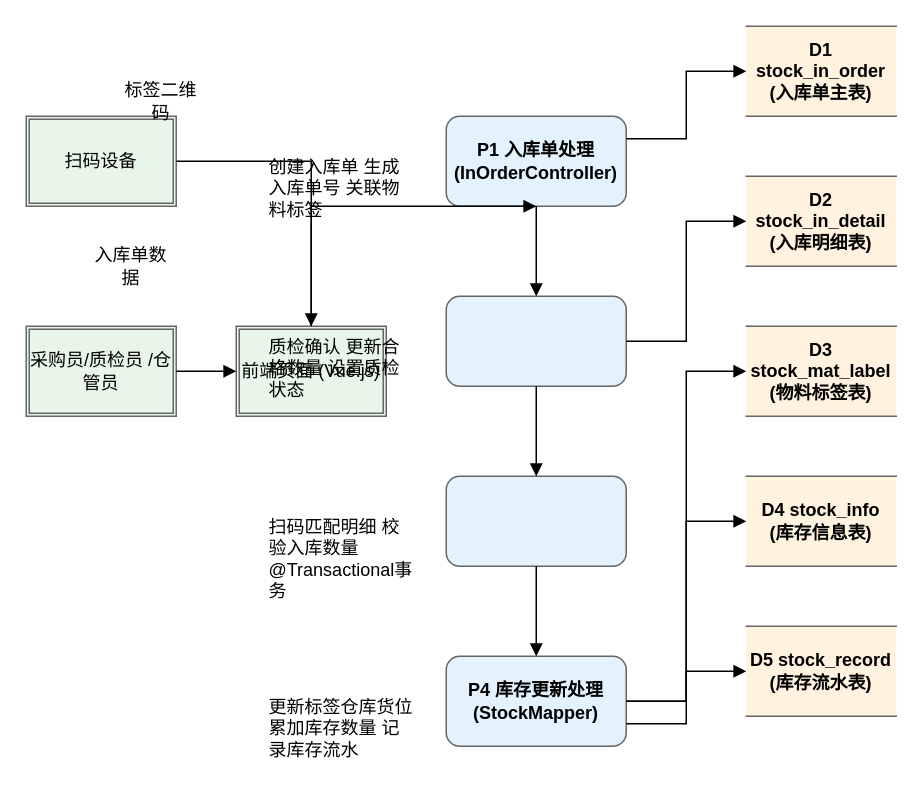
Image size: 923x788. Some labels were removed from this diagram. Here are the shapes that lost their labels. From the top down, the centre of each, then its label:
(x=535, y=340): P2 质检处理 (InOrderService)
(x=535, y=520): P3 扫码入库处理 (InOrderService)
